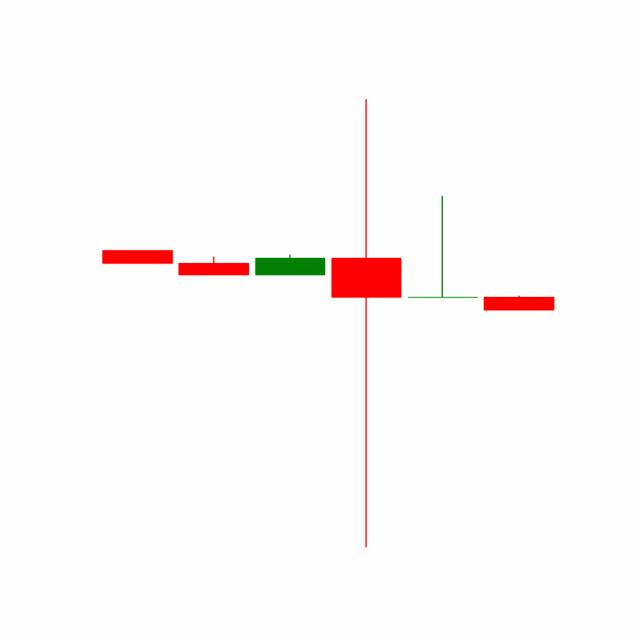Gravestone Doji: (403, 193, 481, 299)
